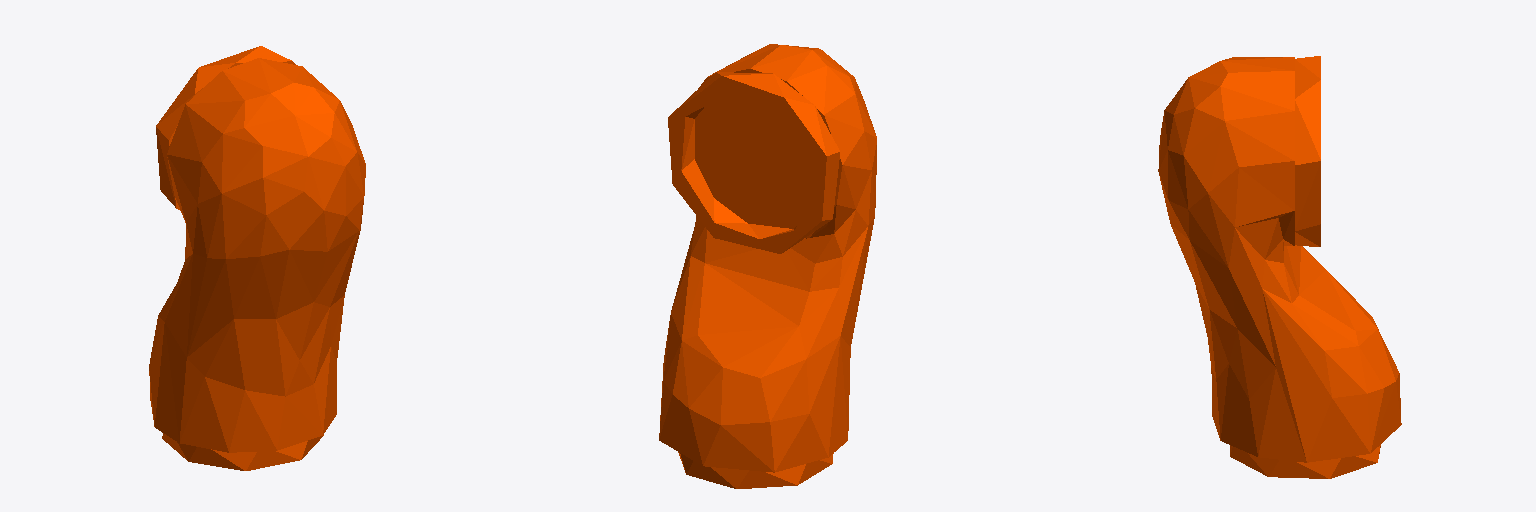
The picture shows the model from 3 angles: view 1: azimuth 30°, elevation 25°; view 2: azimuth 150°, elevation 25°; view 3: azimuth 270°, elevation 25°; orthographic projection.
Visible parts, largest first — view 1: link1_object.012; view 2: link1_object.012; view 3: link1_object.012.
Part boxes in pixels (x1,y1,x2,y2): link1_object.012: (149, 46, 365, 470); link1_object.012: (659, 44, 876, 488); link1_object.012: (1158, 56, 1401, 478).
Bounding box in the file's own units: 0.1208 × 0.269 × 0.1552.